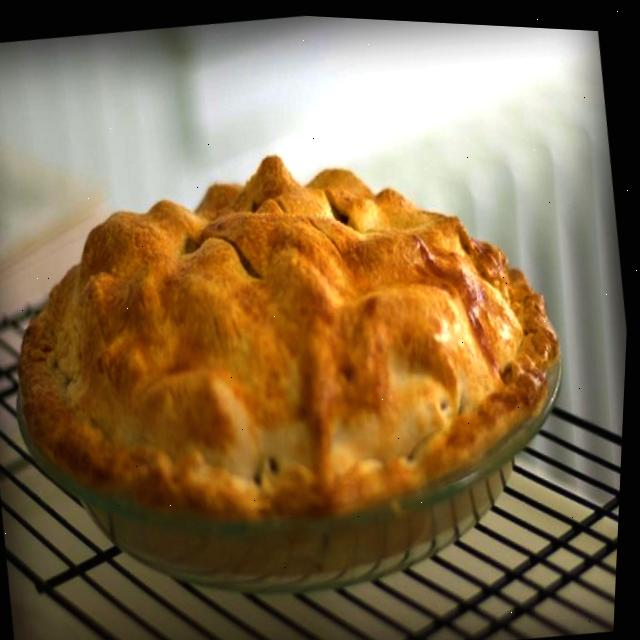炸货点心: (0, 61, 607, 633)
蛋糕甜品: (0, 61, 607, 633)
